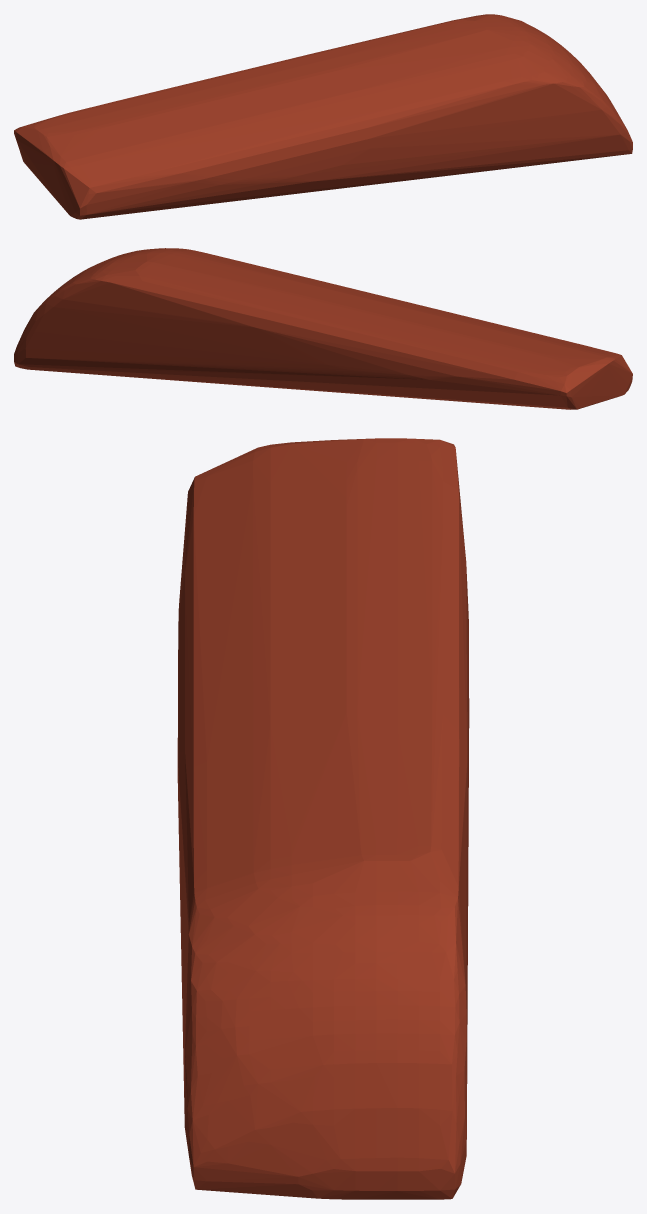
File: left-hip-pitch-0_part_31.obj
The picture shows the model from 3 angles, top to bottom: view 1: azimuth 30°, elevation 25°; view 2: azimuth 150°, elevation 25°; view 3: azimuth 270°, elevation 25°; orthographic projection. The views are drawn at different scales.
Bounding box in the file's own units: 0.1008 × 0.0203 × 0.0229.
